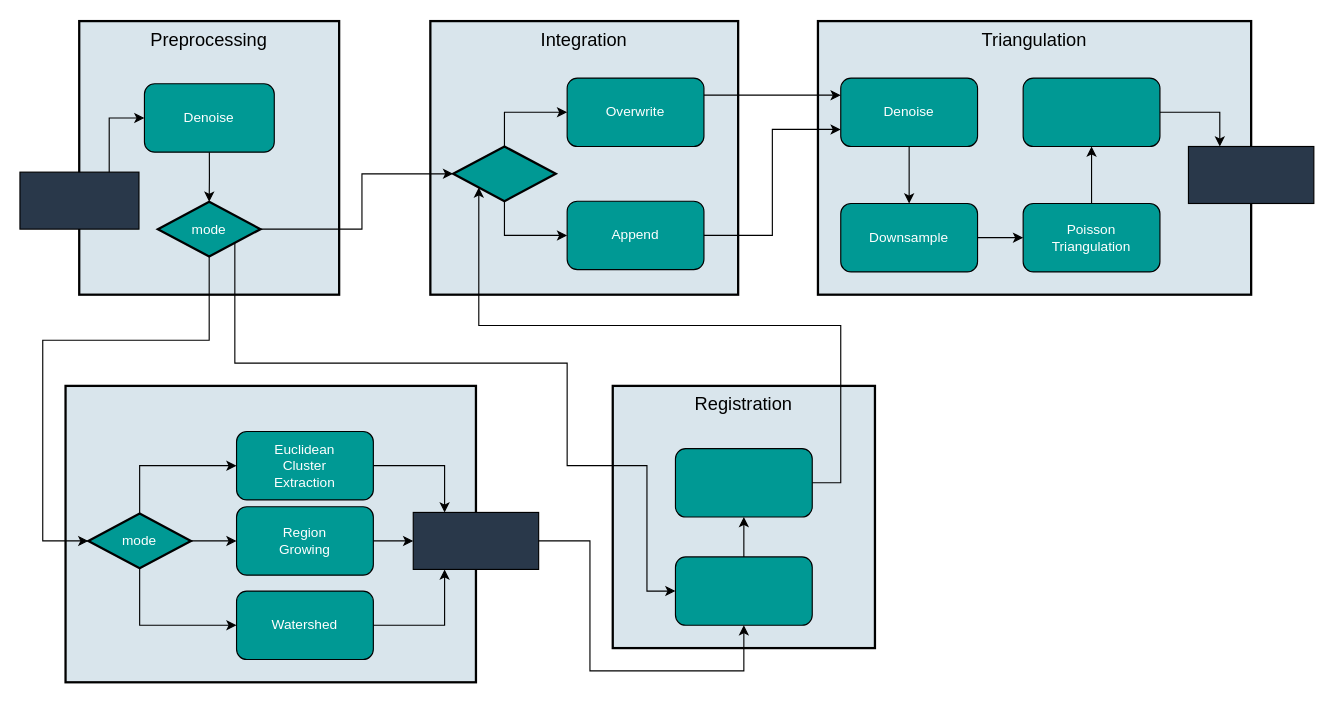
Some shapes in this 1334 by 702 pixel diagram are drawn without their labels. The box of each missing label's shape, as (x1, y1, x2, y2) in pixels:
Clusters: (412, 511, 539, 569)
empty: (451, 145, 556, 202)
Filter Triangles: (1022, 77, 1160, 146)
Global Registration: (674, 556, 812, 625)
ICP Refinement: (674, 447, 812, 517)
Mesh: (1187, 145, 1314, 203)
Point Cloud: (19, 171, 139, 229)
Segmentation: (64, 384, 477, 683)
